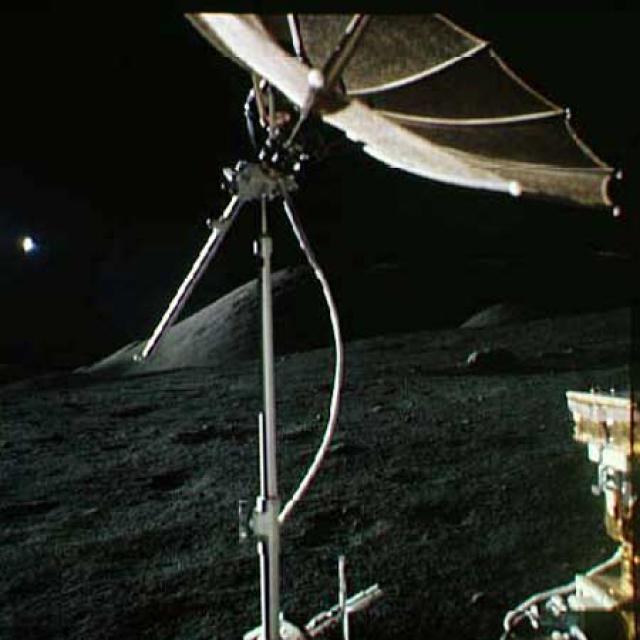artifact: (125, 11, 623, 362), (225, 360, 388, 638), (478, 388, 638, 639)
crater: (151, 474, 202, 492), (110, 404, 164, 416)
rock: (464, 344, 520, 364)
